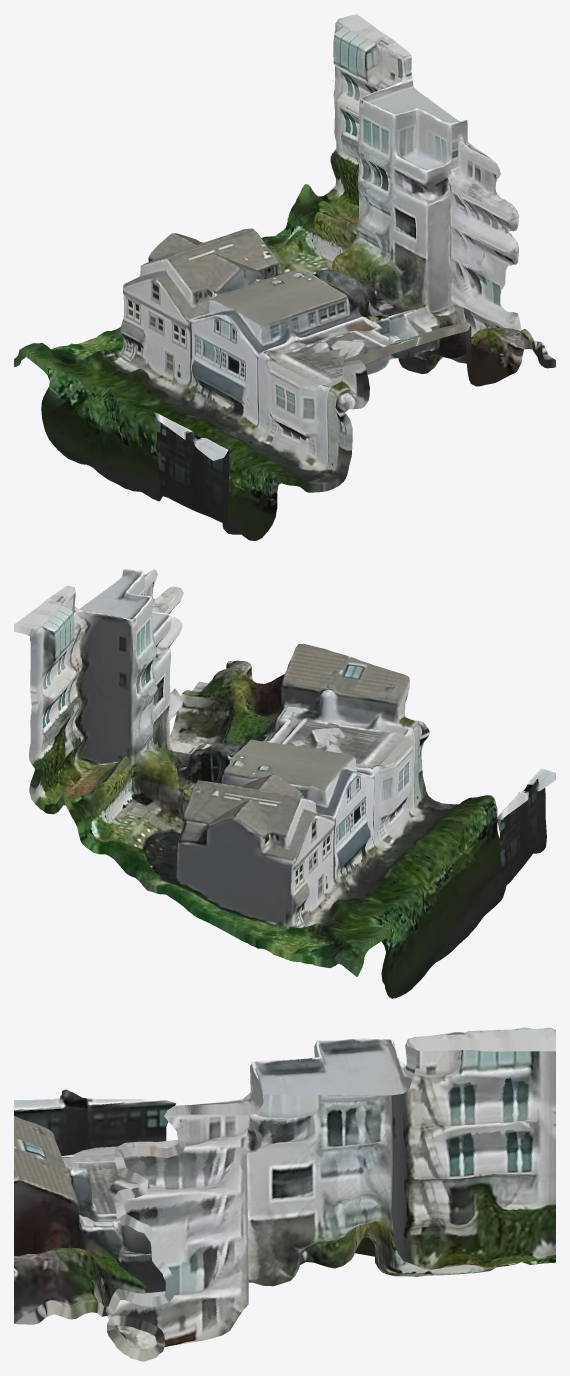
File: z20-167756-405198-h0-yup-uvflip-v3-world.glb
3 views of the same model, one above another, from view 1: azimuth 30°, elevation 25°; view 2: azimuth 150°, elevation 25°; view 3: azimuth 270°, elevation 25° (orthographic). The views are drawn at different scales.
Bounding box in the file's own units: 30.16 × 27.12 × 30.32.
Materials: 1 (1 with a texture image).
